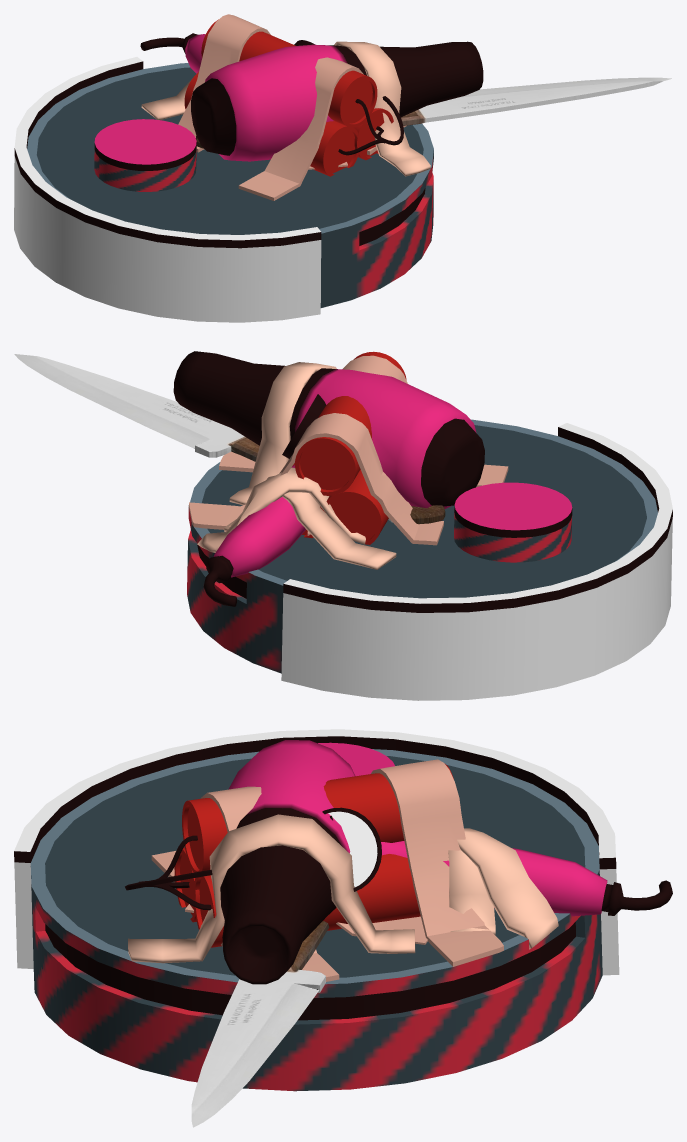
File: бомба.fbx_Scene.fbx
3 renders of one model, top to bottom at view 1: azimuth 30°, elevation 25°; view 2: azimuth 150°, elevation 25°; view 3: azimuth 270°, elevation 25°, orthographic. The views are drawn at different scales.
Visible parts, largest first — view 1: Цилиндр.002, Цилиндр.003, Цилиндр.001; view 2: Цилиндр.002, Цилиндр.003, Цилиндр.001; view 3: Цилиндр.002, Цилиндр.003, Цилиндр.001.
Part boxes in pixels (box(x1,y1,x2,y2)): Цилиндр.002: box(14, 14, 433, 322); Цилиндр.003: box(140, 33, 483, 176); Цилиндр.001: box(195, 77, 671, 169); Цилиндр.002: box(187, 351, 672, 700); Цилиндр.003: box(173, 351, 484, 606); Цилиндр.001: box(14, 354, 445, 535); Цилиндр.002: box(14, 729, 619, 1091); Цилиндр.003: box(128, 740, 672, 984); Цилиндр.001: box(185, 904, 427, 1127).
Size of the model in its own units: 331 by 94.55 by 231.
4 materials, 4 textured.
